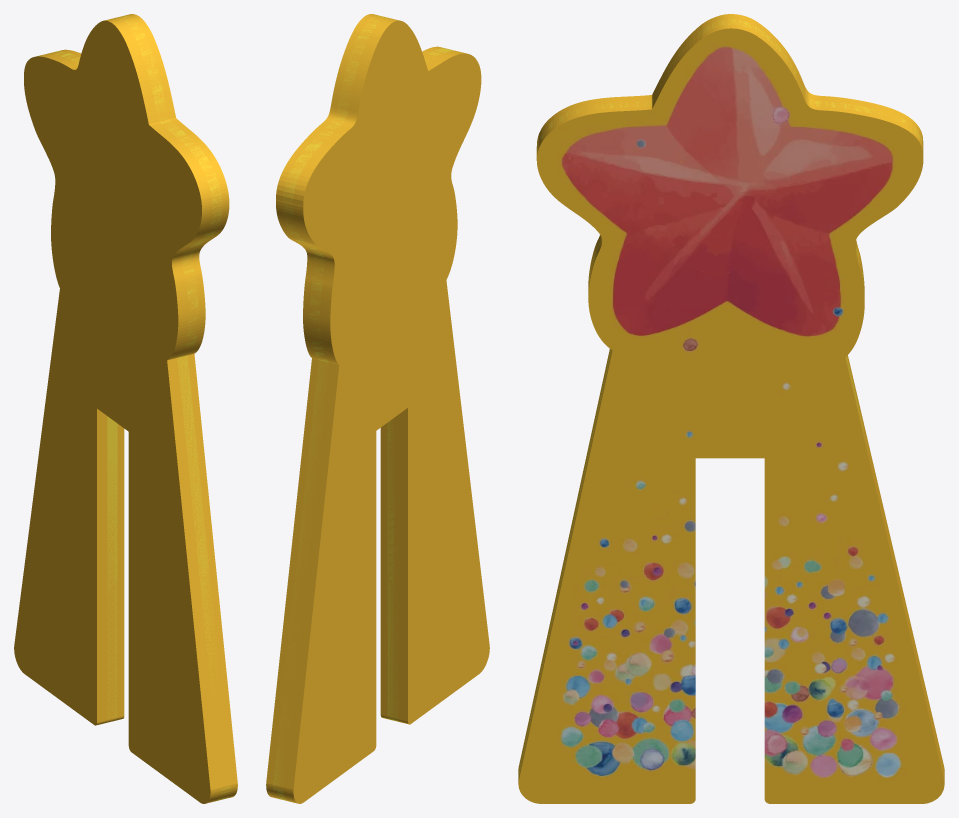
Rendered from free-standing-star-02.glb.
3 renders of one model, left to right at view 1: azimuth 30°, elevation 25°; view 2: azimuth 150°, elevation 25°; view 3: azimuth 270°, elevation 25°, orthographic. The views are drawn at different scales.
Visible parts, largest first — view 1: free-standing-star-02; view 2: free-standing-star-02; view 3: free-standing-star-02.
Part boxes in pixels (bbox=[...]): free-standing-star-02: bbox=[14, 14, 237, 803]; free-standing-star-02: bbox=[266, 14, 489, 803]; free-standing-star-02: bbox=[518, 14, 944, 803].
Size of the model in its own units: 24 by 600 by 299.
4 materials, 2 textured.
